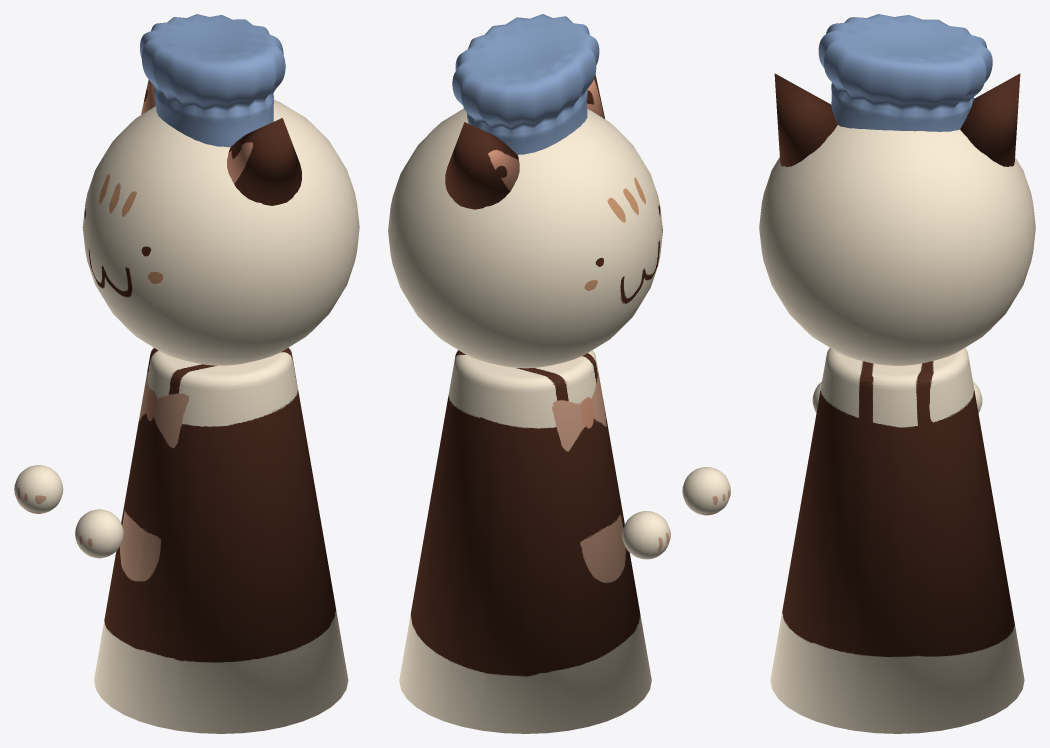
File: cat_blue-VXzK5luj.glb
3 renders of one model, left to right at view 1: azimuth 30°, elevation 25°; view 2: azimuth 150°, elevation 25°; view 3: azimuth 270°, elevation 25°, orthographic.
Parts seen in each view (by area): view 1: cat, chefhat_1; view 2: cat, chefhat_1; view 3: cat, chefhat_1.
Boxes of the visible parts, x1,y1,x2,y2 form: cat: [14, 80, 359, 733]; chefhat_1: [140, 14, 285, 147]; cat: [388, 74, 730, 733]; chefhat_1: [452, 14, 599, 154]; cat: [759, 73, 1035, 733]; chefhat_1: [818, 14, 992, 131].
Size of the model in its own units: 1.82 by 3.83 by 1.49.
5 materials, 4 textured.
